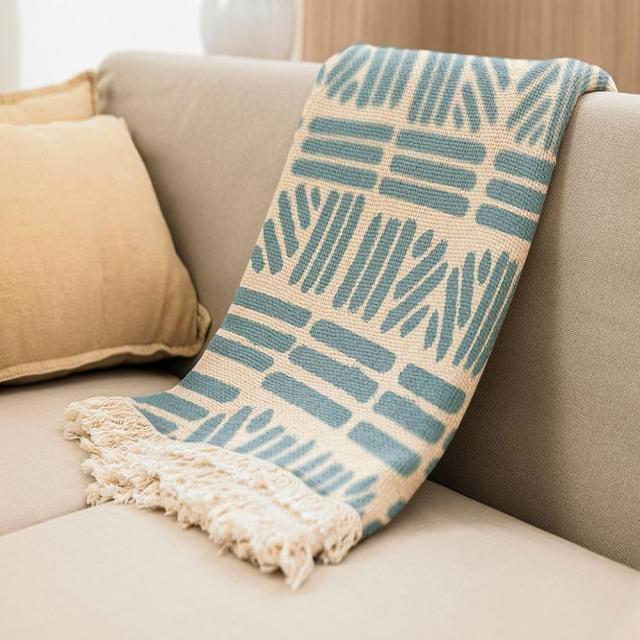blanket: (64, 46, 615, 590)
